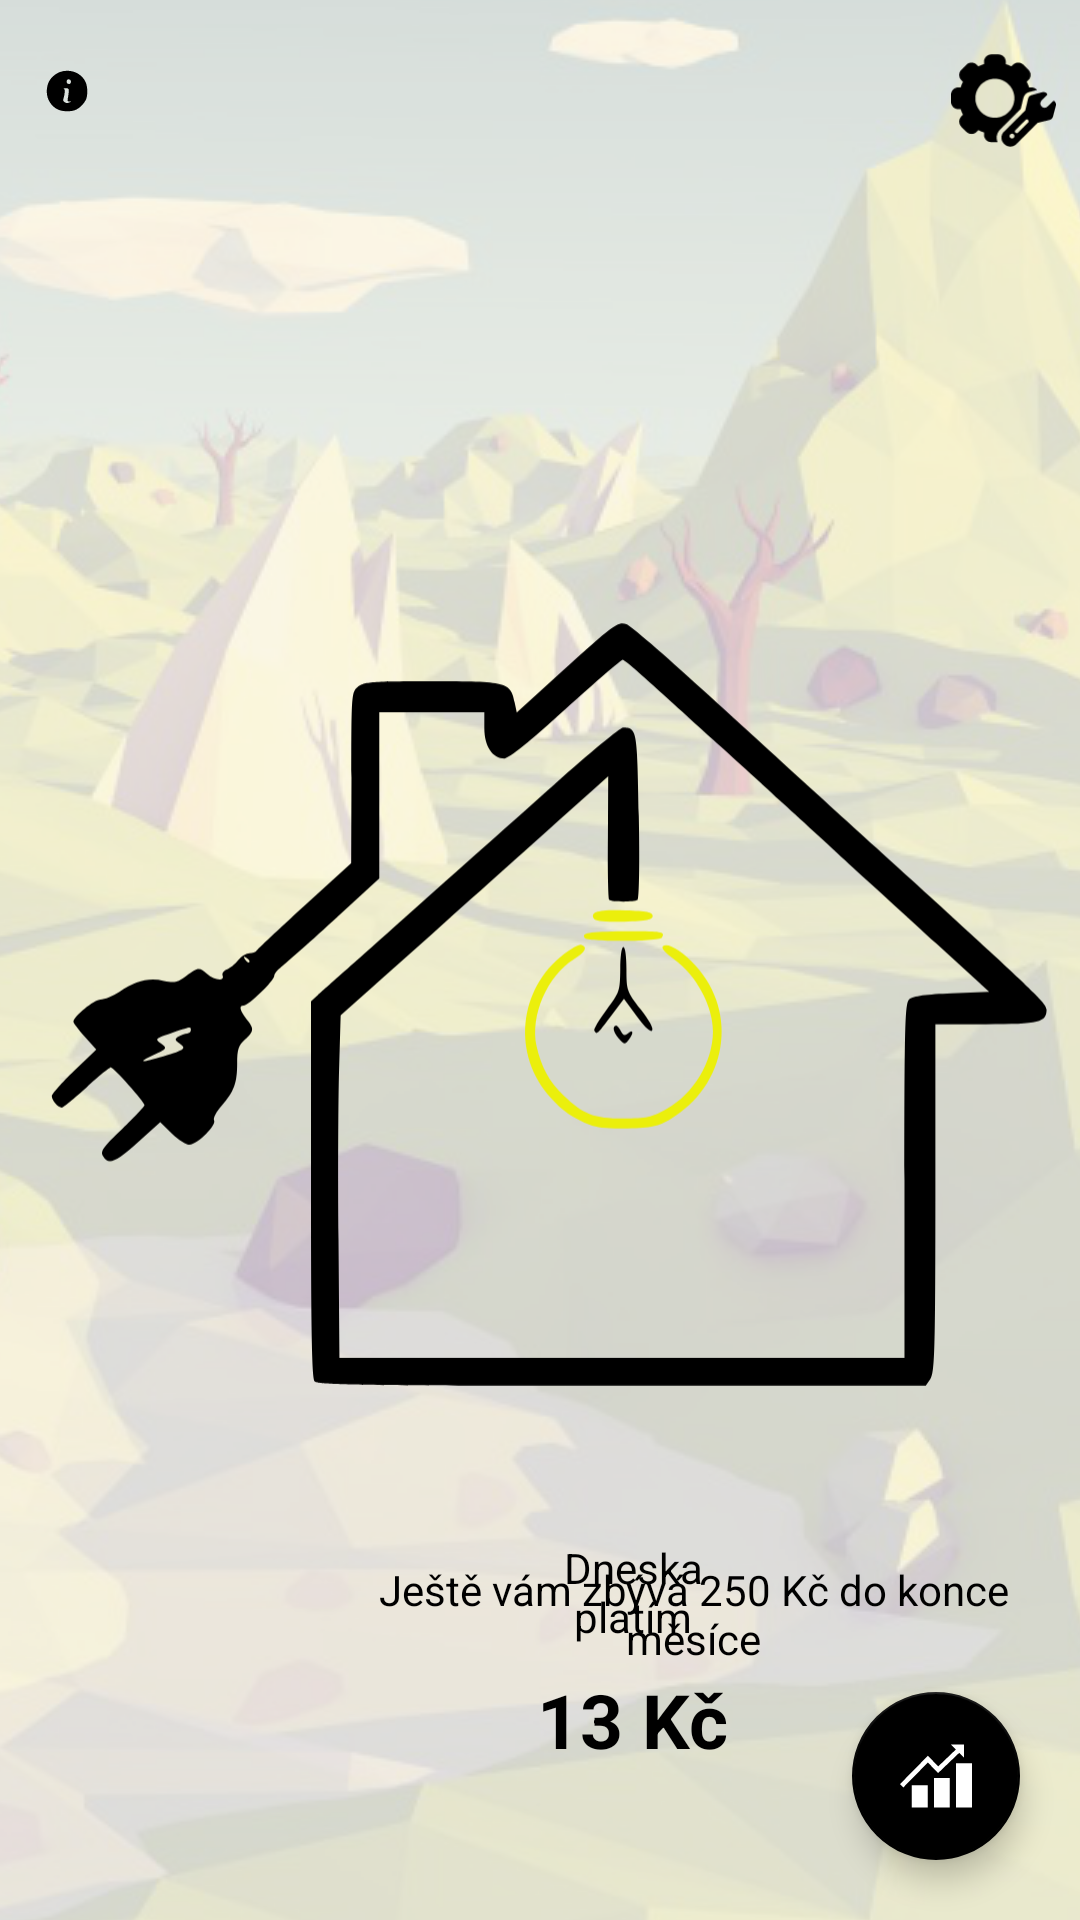

Icons on this 1080w x 1920h Android screen, each with its box as (x1, y1, x2, y2):
graph: (852, 1692, 1020, 1860)
info: (46, 70, 88, 112)
settings: (951, 54, 1056, 147)
